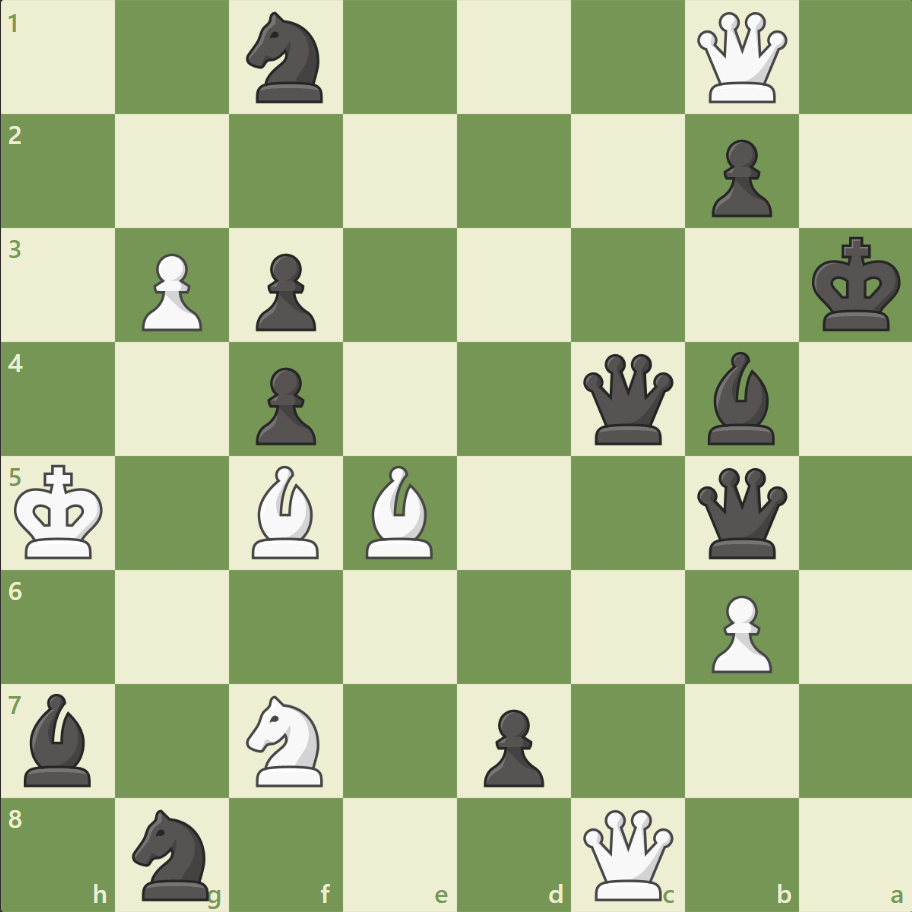B: (358, 460, 442, 563), (244, 460, 328, 563)
K: (11, 458, 111, 566)
N: (238, 688, 335, 791)
P: (701, 586, 776, 677), (133, 246, 208, 337)
Q: (578, 804, 677, 903), (691, 9, 790, 108)
b: (17, 687, 101, 790), (698, 347, 782, 449)
k: (806, 231, 906, 339)
n: (124, 802, 222, 904), (238, 7, 335, 110)
p: (474, 700, 549, 791), (247, 359, 322, 450), (247, 246, 322, 337), (701, 132, 776, 223)
q: (578, 349, 677, 449), (691, 463, 790, 562)
